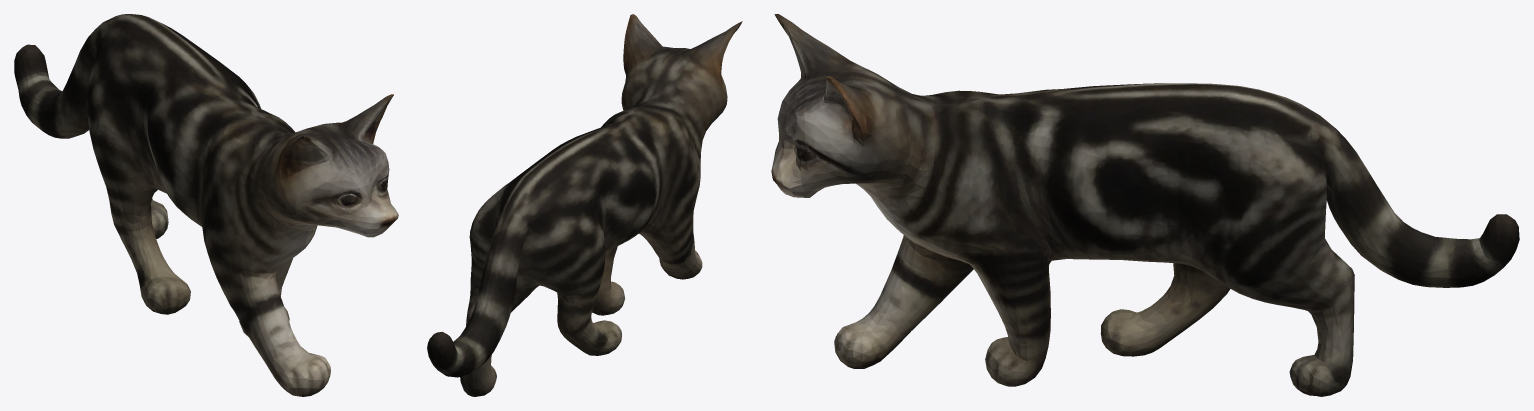
3 renders of one model, left to right at view 1: azimuth 30°, elevation 25°; view 2: azimuth 150°, elevation 25°; view 3: azimuth 270°, elevation 25°, orthographic. The views are drawn at different scales.
Parts seen in each view (by area): view 1: geometry_0; view 2: geometry_0; view 3: geometry_0.
Part boxes in pixels (bbox=[...]): geometry_0: bbox=[14, 14, 398, 396]; geometry_0: bbox=[427, 14, 742, 396]; geometry_0: bbox=[771, 14, 1519, 396].
Size of the model in its own units: 0.2284 by 0.4915 by 1.
1 material, 1 textured.
